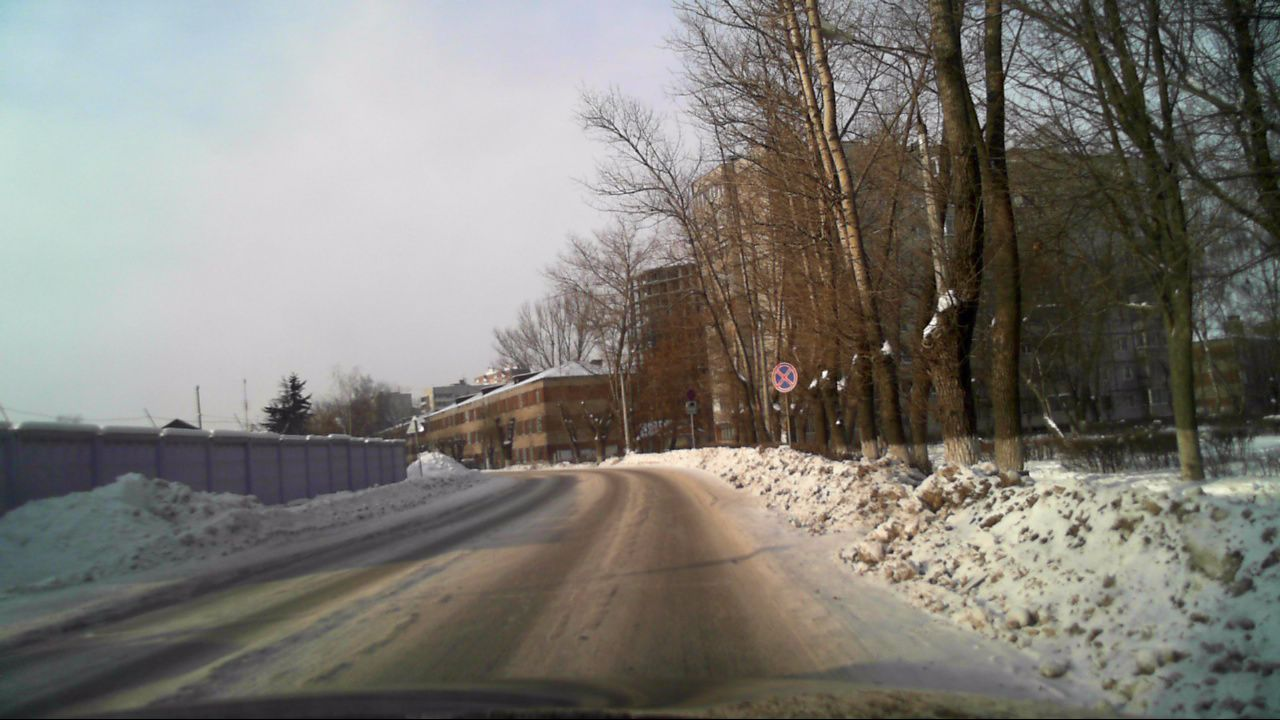No Parking: (772, 362, 797, 393)
